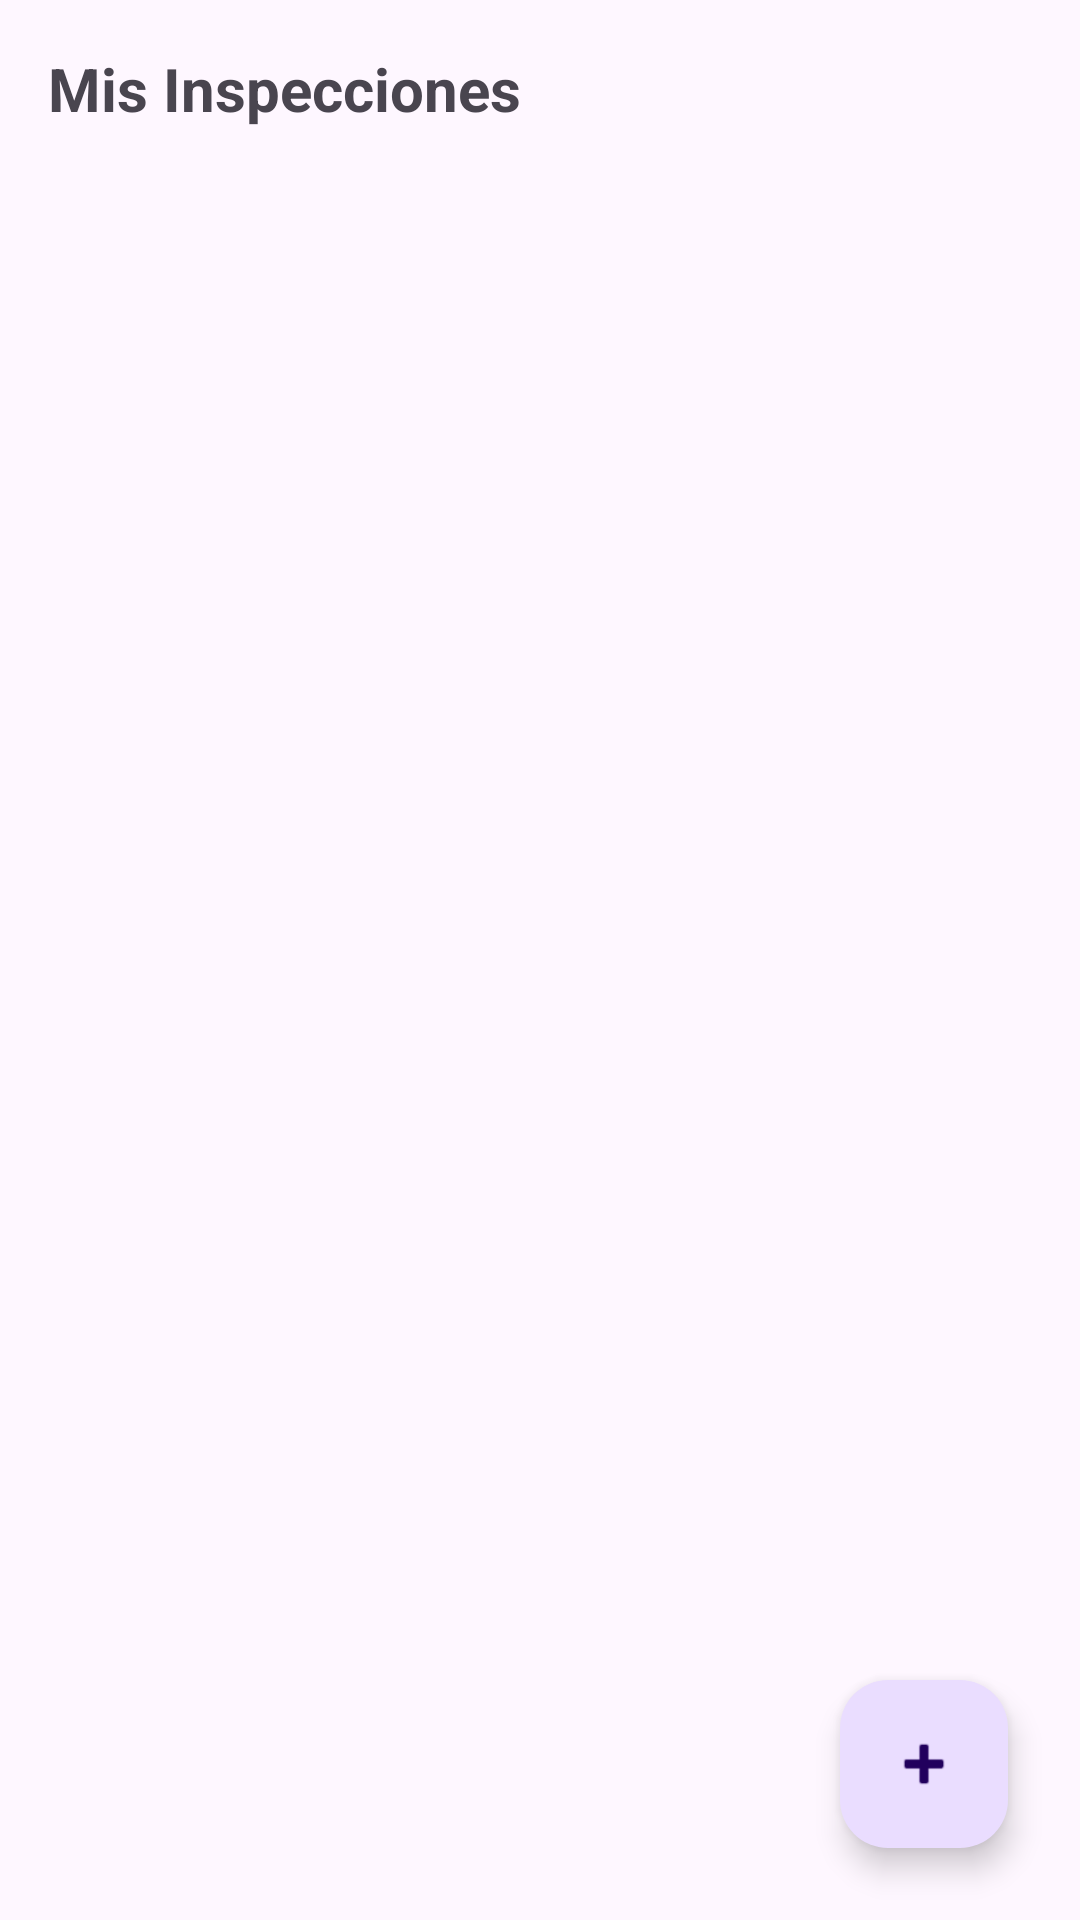

Icons on this 1080px×1920px Android screen, each with the point to tap as [x,y]:
Agregar: [924,1764]
